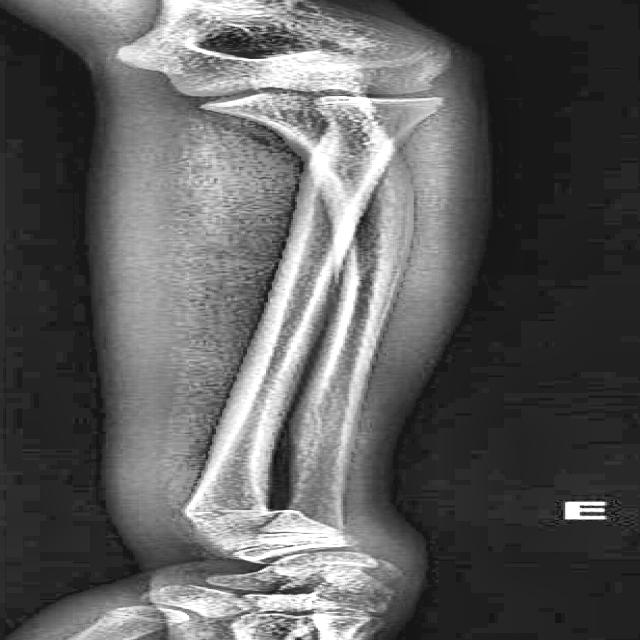angle: (168, 504, 308, 522)
